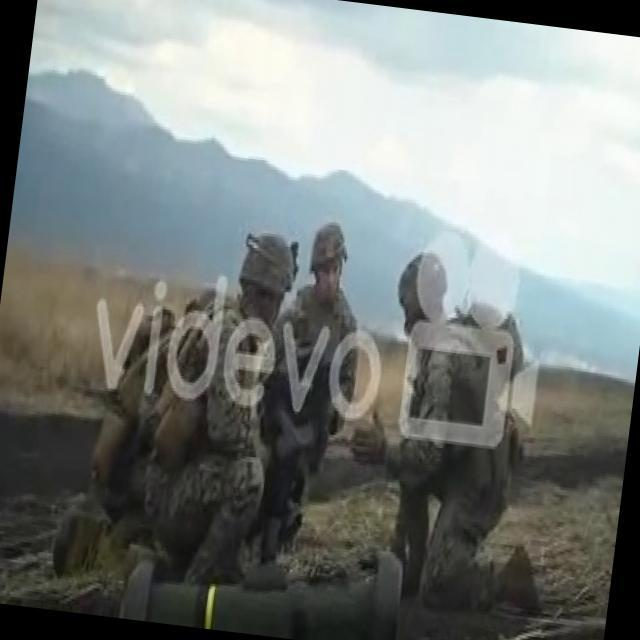rocket: (121, 520, 404, 640)
